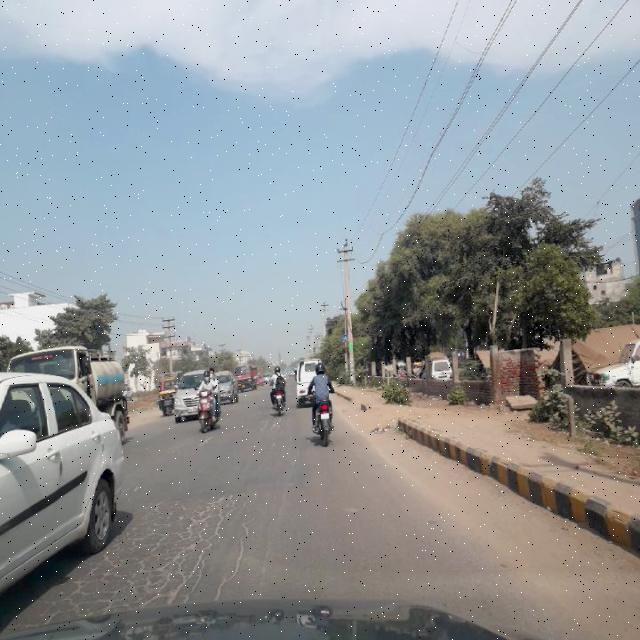D00: (212, 508, 252, 604)
D20: (123, 490, 249, 561), (58, 560, 207, 614)
